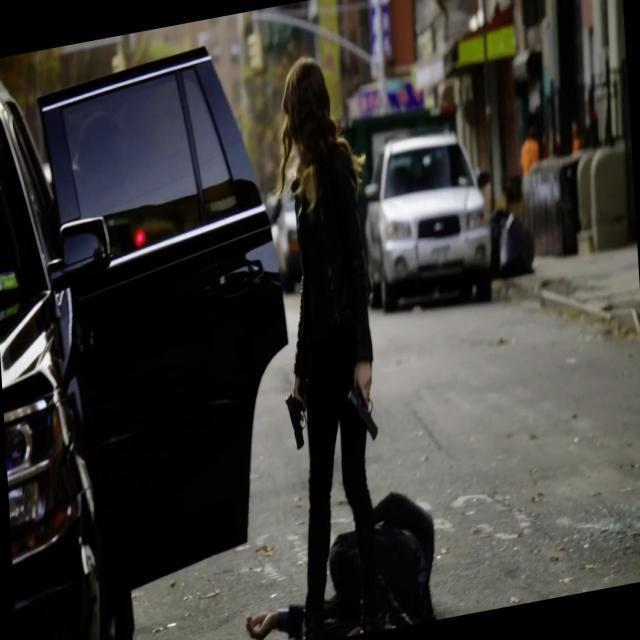pistol: (346, 379, 380, 444), (284, 389, 309, 454)
